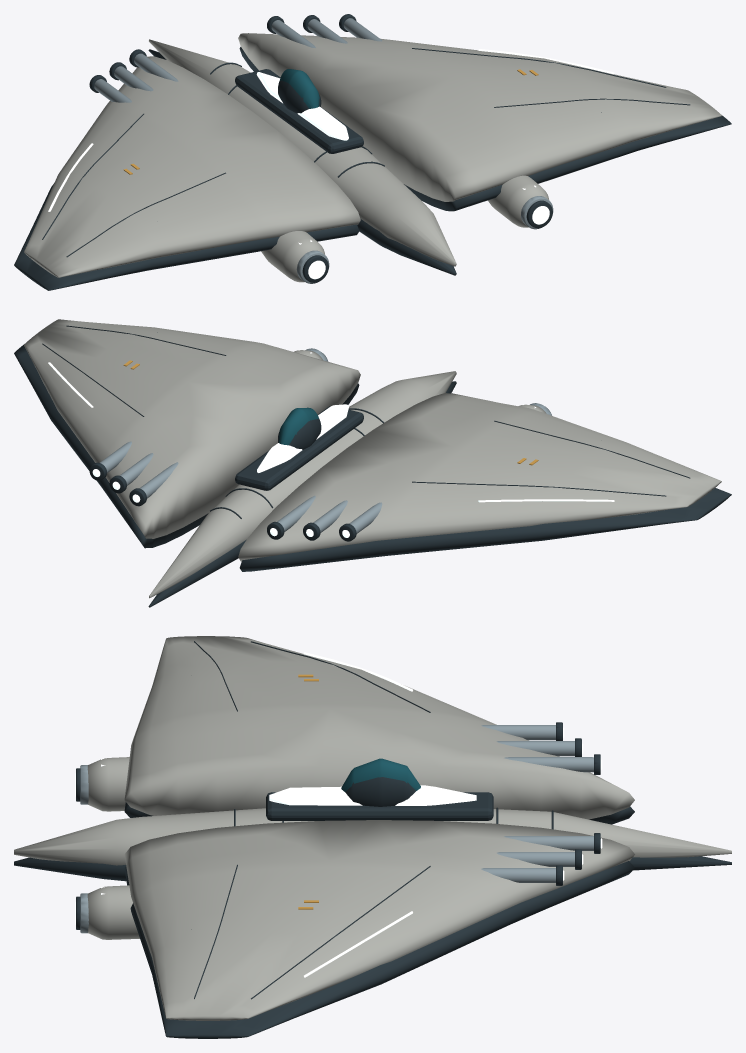
File: boss-6-p2.glb
3 views of the same model, one above another, from view 1: azimuth 30°, elevation 25°; view 2: azimuth 150°, elevation 25°; view 3: azimuth 270°, elevation 25° (orthographic). The views are drawn at different scales.
Parts seen in each view (by area): view 1: SM_Wing_Right, SM_Wing_Left, SM_Hull, SM_Engine_Left, SM_Engine_Right, SM_Weapon_Left, SM_Weapon_Right; view 2: SM_Wing_Left, SM_Wing_Right, SM_Hull, SM_Weapon_Left, SM_Weapon_Right; view 3: SM_Wing_Right, SM_Wing_Left, SM_Hull, SM_Weapon_Right, SM_Weapon_Left, SM_Engine_Right, SM_Engine_Left.
Boxes of the visible parts, bbox=[...] form: SM_Wing_Right: bbox=[238, 33, 731, 211]; SM_Wing_Left: bbox=[14, 56, 360, 290]; SM_Hull: bbox=[148, 39, 456, 275]; SM_Engine_Left: bbox=[261, 231, 329, 283]; SM_Engine_Right: bbox=[488, 175, 553, 229]; SM_Weapon_Left: bbox=[89, 49, 178, 102]; SM_Weapon_Right: bbox=[267, 14, 382, 47]; SM_Wing_Left: bbox=[238, 393, 731, 571]; SM_Wing_Right: bbox=[14, 319, 360, 548]; SM_Hull: bbox=[148, 371, 456, 607]; SM_Weapon_Left: bbox=[267, 495, 382, 541]; SM_Weapon_Right: bbox=[89, 441, 178, 506]; SM_Wing_Right: bbox=[124, 820, 634, 1038]; SM_Wing_Left: bbox=[124, 636, 634, 824]; SM_Hull: bbox=[14, 758, 731, 881]; SM_Weapon_Right: bbox=[481, 833, 602, 885]; SM_Weapon_Left: bbox=[481, 722, 602, 774]; SM_Engine_Right: bbox=[75, 885, 139, 939]; SM_Engine_Left: bbox=[75, 757, 129, 811].
Bounding box in the file's own units: 13.41 × 1.87 × 10.4.
